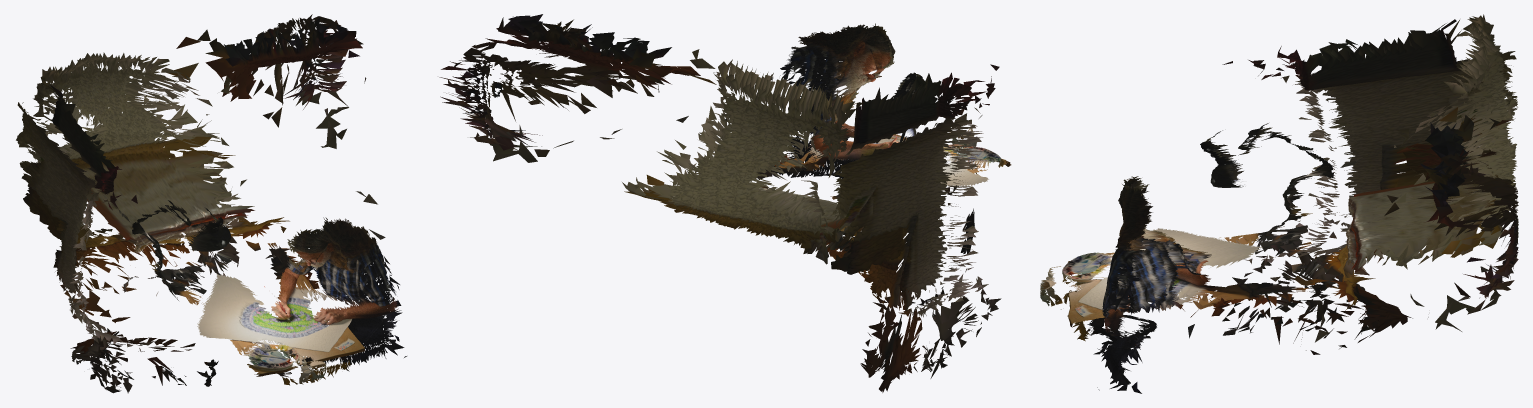
Rendered from goodsellportrait_mesh.glb.
3 views of the same model, side by side, from view 1: azimuth 30°, elevation 25°; view 2: azimuth 150°, elevation 25°; view 3: azimuth 270°, elevation 25° (orthographic). The views are drawn at different scales.
Visible parts, largest first — view 1: goodsellportrait_mesh; view 2: goodsellportrait_mesh; view 3: goodsellportrait_mesh.
Part boxes in pixels (x1,y1,x2,y2): goodsellportrait_mesh: (16,14,406,393); goodsellportrait_mesh: (439,14,1011,392); goodsellportrait_mesh: (1040,14,1518,393).
Size of the model in its own units: 2.03 by 1.48 by 1.98.
